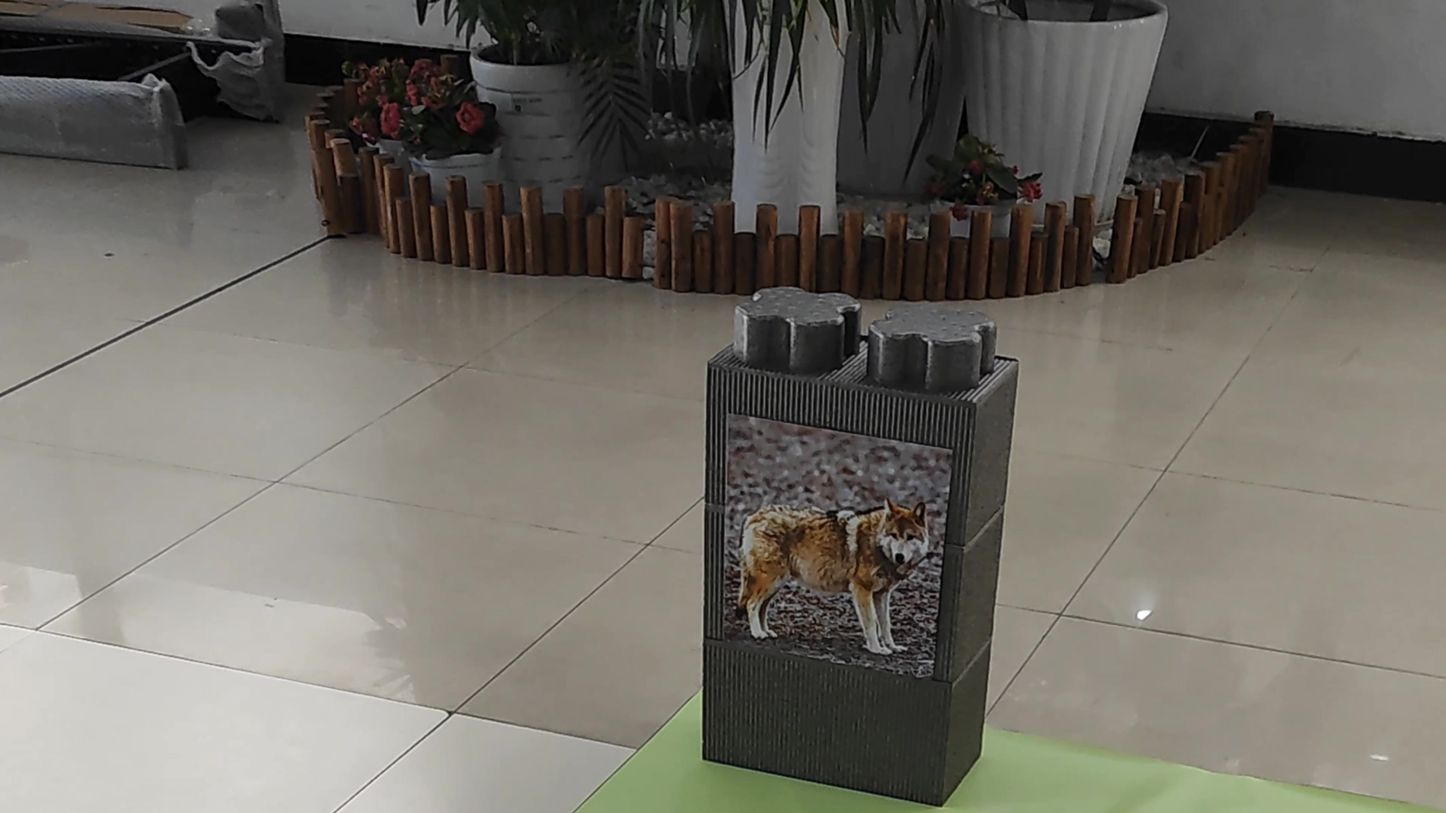wolf: (719, 474, 943, 678)
